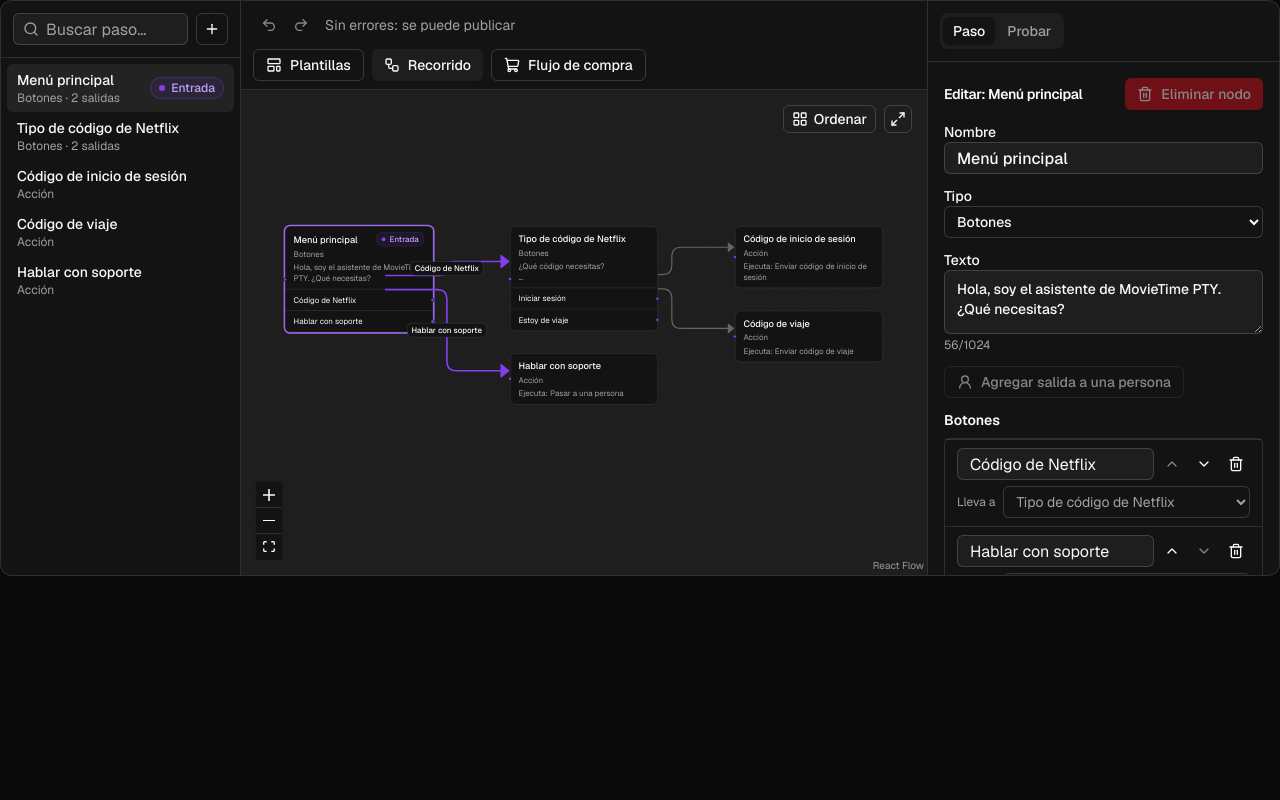
Test: estudio del recorrido con el flujo de compras › no ofrece agregar el flujo de compras: se edita sin agregarlo
The image size is (1280, 800).
Check: the button "Flujo de compra" is shown, box [491, 49, 646, 81]
Click the button named "Agregar paso": (212, 29) [196, 13, 228, 45]
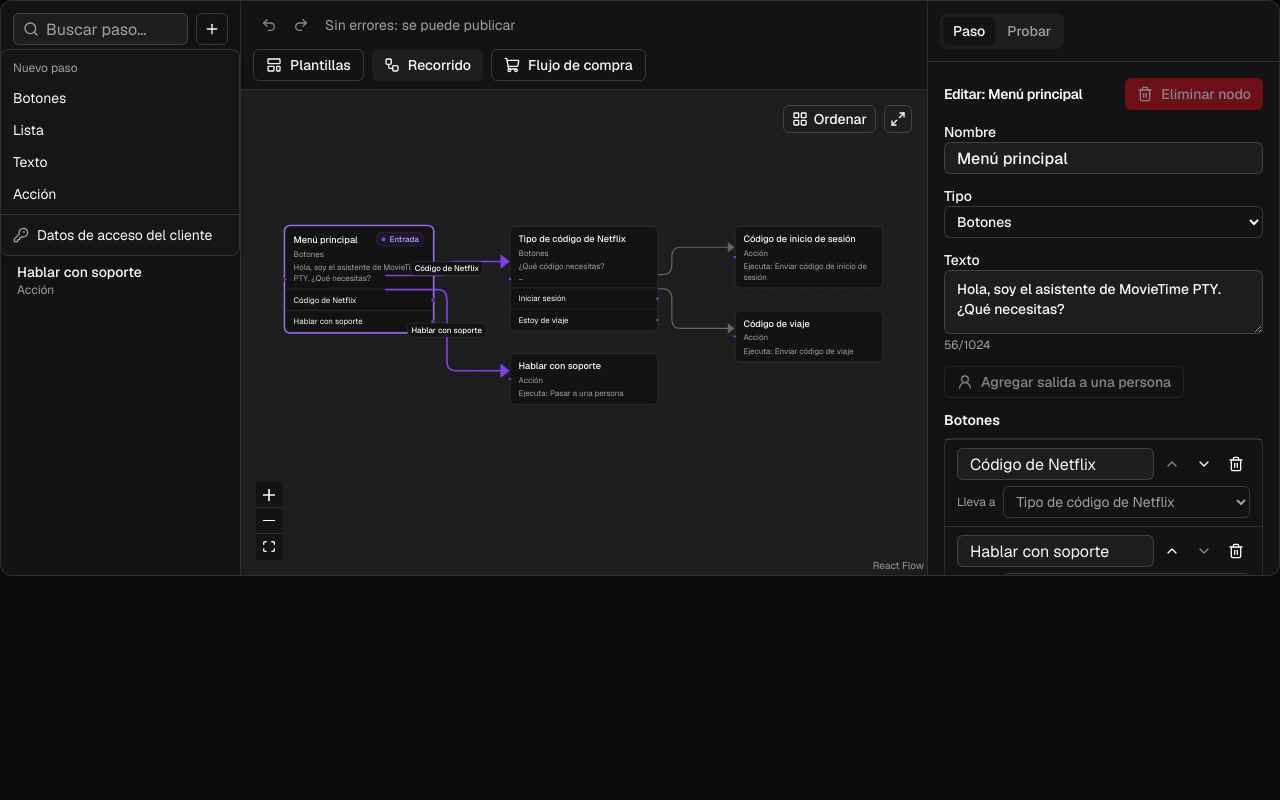
Check: the menu item "Texto" is shown, box [13, 153, 48, 171]
